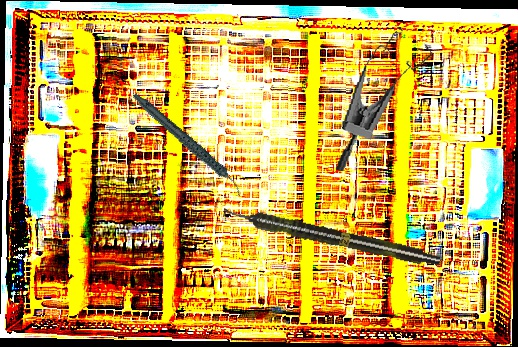Handpiece: (131, 74, 245, 214), (221, 201, 442, 271)
Speculum: (333, 19, 437, 184)
